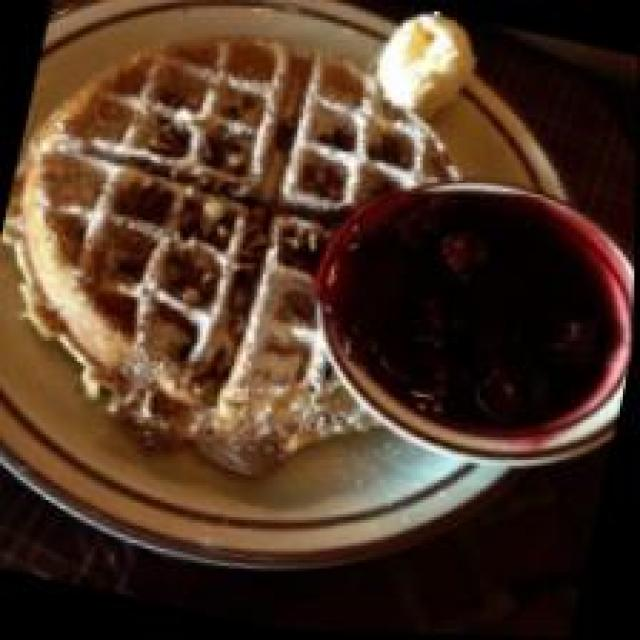Waffles: (0, 0, 492, 514)
